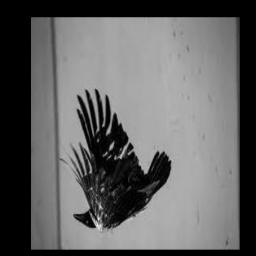Crow: (59, 89, 172, 231)
